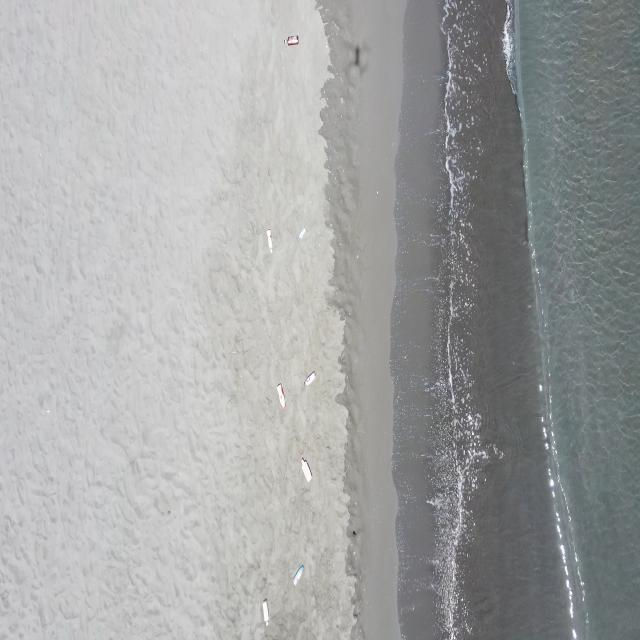Garbage: (300, 456, 311, 482), (292, 564, 303, 584), (276, 383, 284, 407), (303, 371, 315, 384), (261, 599, 267, 624), (284, 35, 299, 44), (267, 228, 272, 252), (299, 227, 304, 239)
